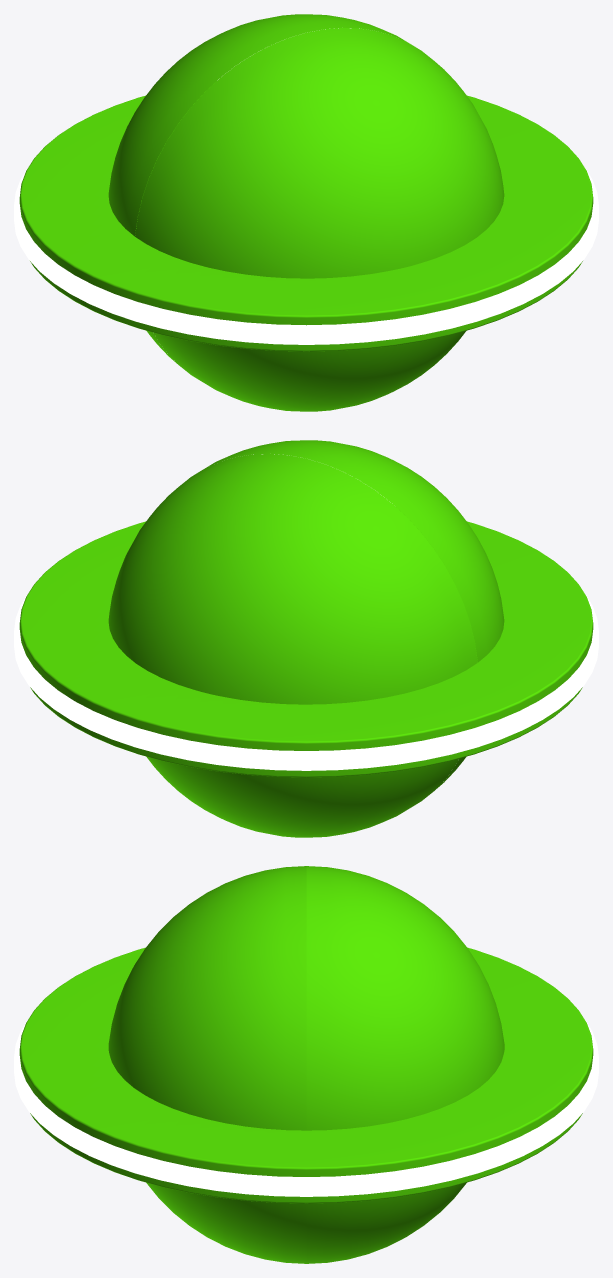
Rendered from one.gltf.
3 renders of one model, top to bottom at view 1: azimuth 30°, elevation 25°; view 2: azimuth 150°, elevation 25°; view 3: azimuth 270°, elevation 25°, orthographic.
Visible parts, largest first — view 1: Sphere, Tube, Tube.1, Sphere.1; view 2: Sphere.1, Tube, Tube.1, Sphere; view 3: Tube, Sphere.1, Sphere, Tube.1.
Part boxes in pixels (<box>): Sphere: <box>135,28,504,411</box>; Tube: <box>19,83,593,351</box>; Tube.1: <box>14,167,598,344</box>; Sphere.1: <box>108,14,406,363</box>; Sphere.1: <box>108,454,477,837</box>; Tube: <box>19,506,593,777</box>; Tube.1: <box>14,592,598,770</box>; Sphere: <box>206,440,504,788</box>; Tube: <box>19,947,593,1203</box>; Sphere.1: <box>306,866,504,1263</box>; Sphere: <box>108,866,306,1263</box>; Tube.1: <box>14,1018,598,1196</box>.
Bounding box in the file's own units: 294 × 200 × 294.
